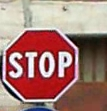stop: (1, 24, 79, 104)
